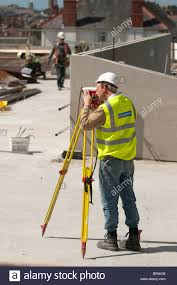Hard Hat: (94, 72, 119, 86), (56, 32, 65, 38), (16, 51, 22, 58)
High Viz: (100, 96, 139, 159)
